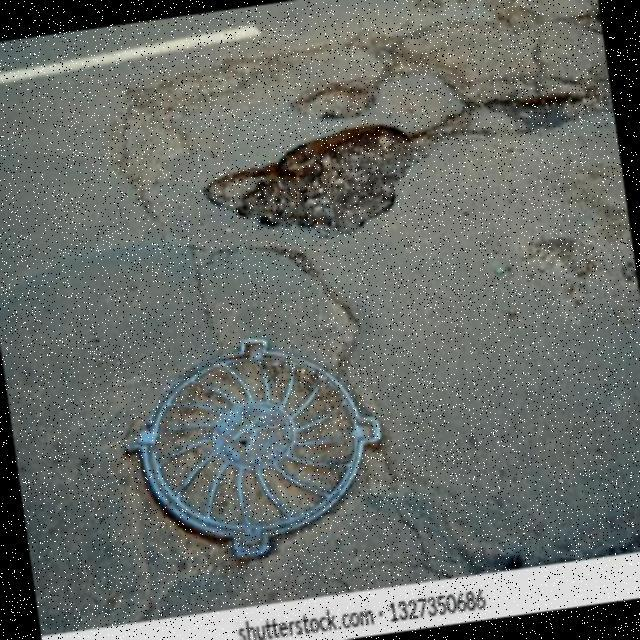Pothole: (205, 126, 433, 235)
